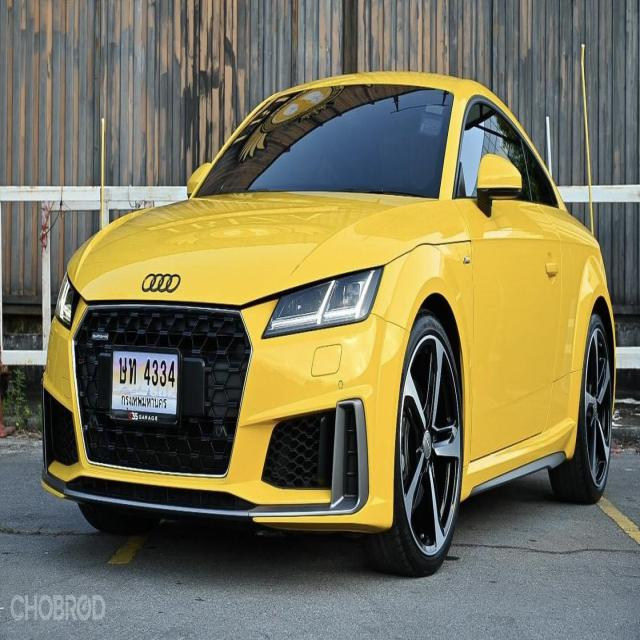license_plate: (110, 347, 182, 428)
